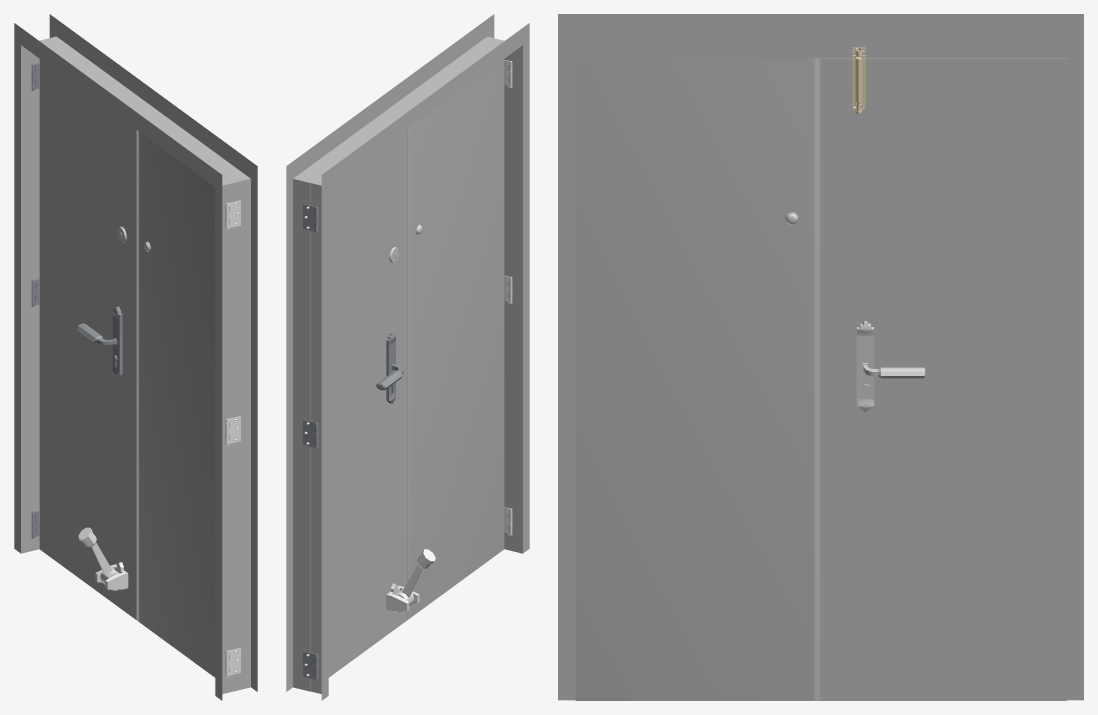
File: spectra_double_doors.fbx
3 views of the same model, side by side, from view 1: azimuth 30°, elevation 25°; view 2: azimuth 150°, elevation 25°; view 3: azimuth 270°, elevation 25° (orthographic). The views are drawn at different scales.
Visible parts, largest first — view 1: door_front.003, polySurface2.005, door_front_2, KITBASH_DOOS_STOPPER1:1_Door_Butt_Hinge.002, KITBASH_DOOS_STOPPER:pCube11.002, KITBASH_DOOS_STOPPER:polySurface5.003, 1_Door_Butt_Hinge.002_1, KITBASH_DOOS_STOPPER:pCube10.003; view 2: door_front_2, door_front.003, polySurface2.005, 2_Frame_Butt_Hinge_1.002_1, KITBASH_DOOS_STOPPER:polySurface5.003, KITBASH_DOOS_STOPPER1:2_Frame_Butt_Hinge_1.002, KITBASH_DOOS_STOPPER:pCube10.003, KITBASH_DOOS_STOPPER:pCube11.002; view 3: door_front_2, door_front.003, polySurface2.005, pCube11.005.
Boxes of the visible parts, <box> form: door_front.003: <box>39,38,136,619</box>; polySurface2.005: <box>14,14,257,700</box>; door_front_2: <box>136,130,215,677</box>; KITBASH_DOOS_STOPPER1:1_Door_Butt_Hinge.002: <box>225,200,240,676</box>; KITBASH_DOOS_STOPPER:pCube11.002: <box>112,306,122,377</box>; KITBASH_DOOS_STOPPER:polySurface5.003: <box>78,527,119,590</box>; 1_Door_Butt_Hinge.002_1: <box>31,63,39,537</box>; KITBASH_DOOS_STOPPER:pCube10.003: <box>95,562,128,590</box>; door_front_2: <box>407,59,504,619</box>; door_front.003: <box>293,130,407,691</box>; polySurface2.005: <box>286,14,529,700</box>; 2_Frame_Butt_Hinge_1.002_1: <box>303,203,318,678</box>; KITBASH_DOOS_STOPPER:polySurface5.003: <box>395,549,435,612</box>; KITBASH_DOOS_STOPPER1:2_Frame_Butt_Hinge_1.002: <box>504,60,512,533</box>; KITBASH_DOOS_STOPPER:pCube10.003: <box>386,583,419,612</box>; KITBASH_DOOS_STOPPER:pCube11.002: <box>386,332,395,403</box>; door_front_2: <box>575,58,820,700</box>; door_front.003: <box>821,58,1066,700</box>; polySurface2.005: <box>558,14,1083,700</box>; pCube11.005: <box>856,321,874,411</box>.
Bounding box in the file's own units: 39.79 × 249 × 179.
